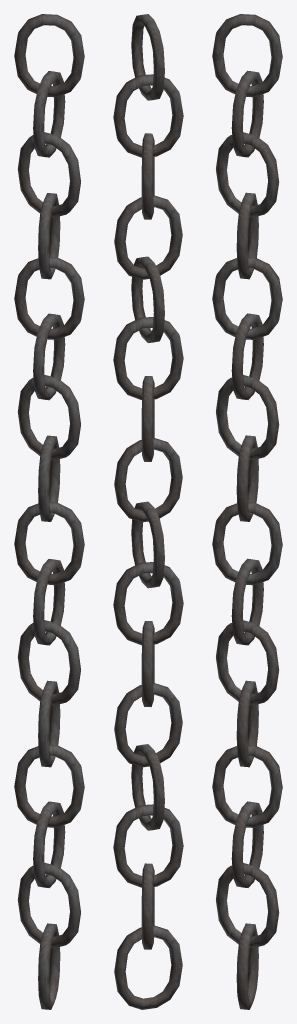
The model's file is Prop_ChainStraight.fbx.
3 renders of one model, left to right at view 1: azimuth 90°, elevation 25°; view 2: azimuth 210°, elevation 25°; view 3: azimuth 270°, elevation 25°, orthographic.
Parts seen in each view (by area): view 1: CDTMesh_ChainStraight; view 2: CDTMesh_ChainStraight; view 3: CDTMesh_ChainStraight.
Part boxes in pixels (bbox=[...]): CDTMesh_ChainStraight: bbox=[14, 14, 84, 1009]; CDTMesh_ChainStraight: bbox=[113, 14, 183, 1009]; CDTMesh_ChainStraight: bbox=[212, 14, 282, 1009].
Size of what is drawn, in the model's own units: 0.2651 by 4.13 by 0.2662.
1 material, 1 textured.
